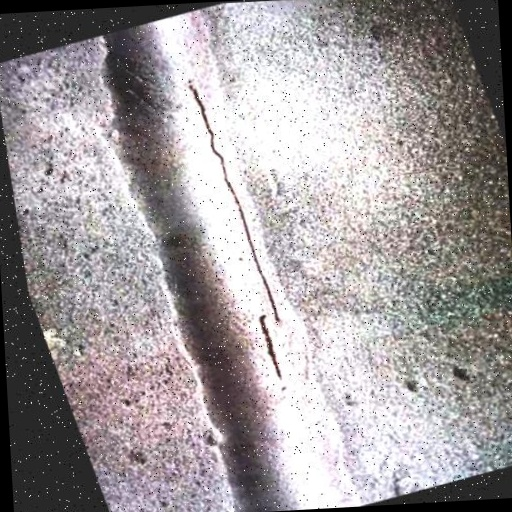crack: (171, 65, 295, 334), (243, 301, 290, 380)
